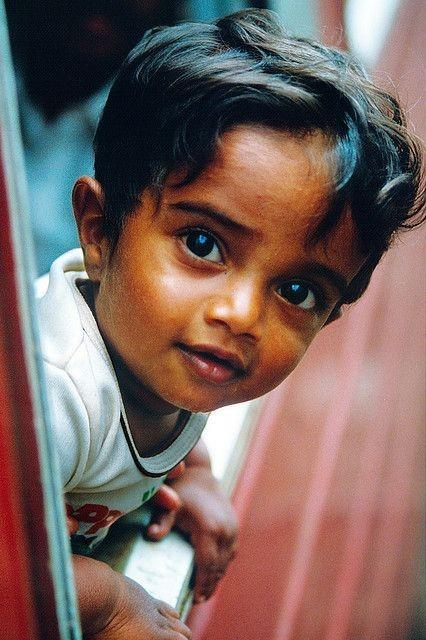Healthy: (77, 61, 374, 415)
